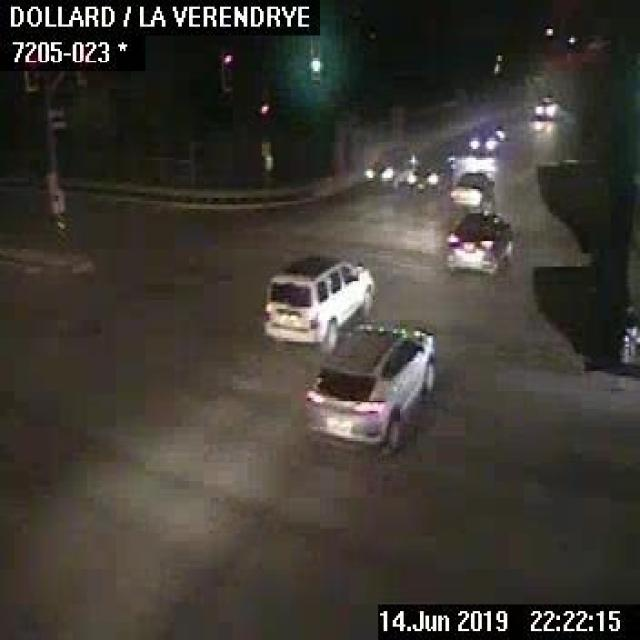vehicle: (299, 325, 436, 449), (263, 249, 376, 348), (444, 209, 509, 271), (364, 144, 411, 185), (450, 170, 493, 204), (405, 166, 447, 193), (466, 127, 508, 151), (534, 94, 554, 115)
